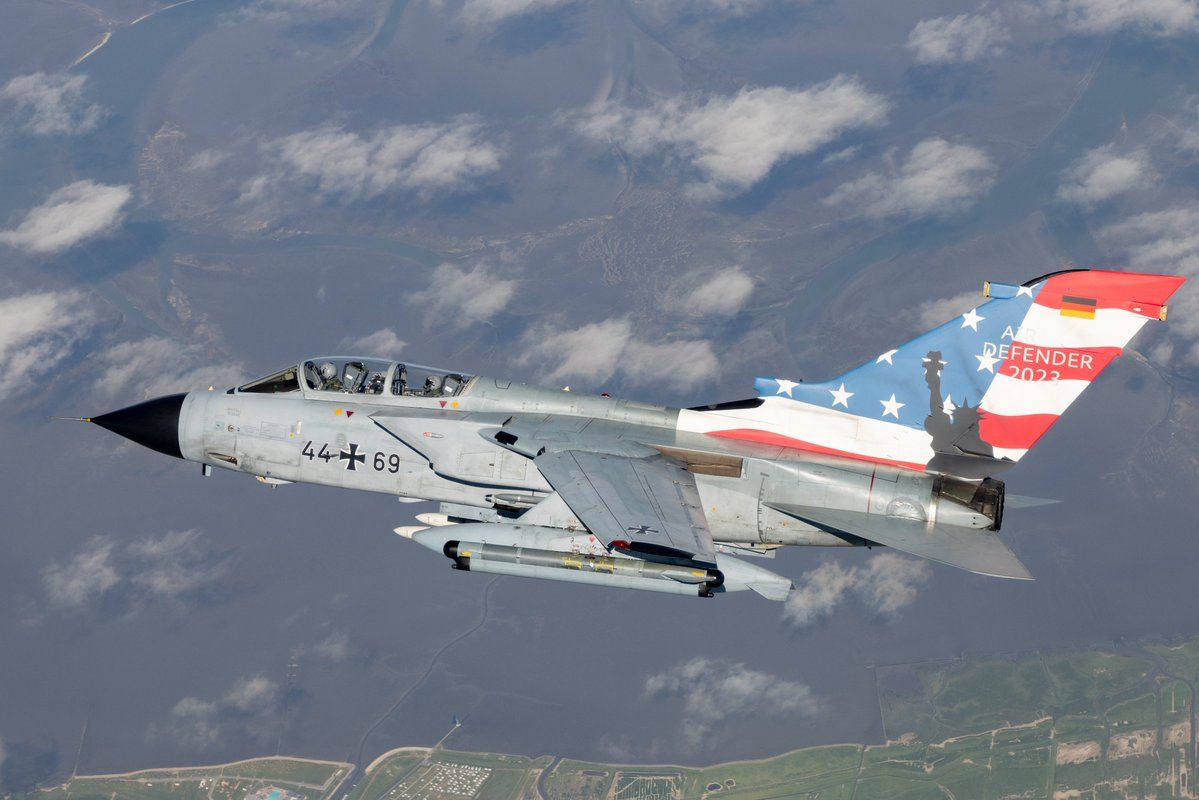Tornado: (44, 268, 1188, 602)
